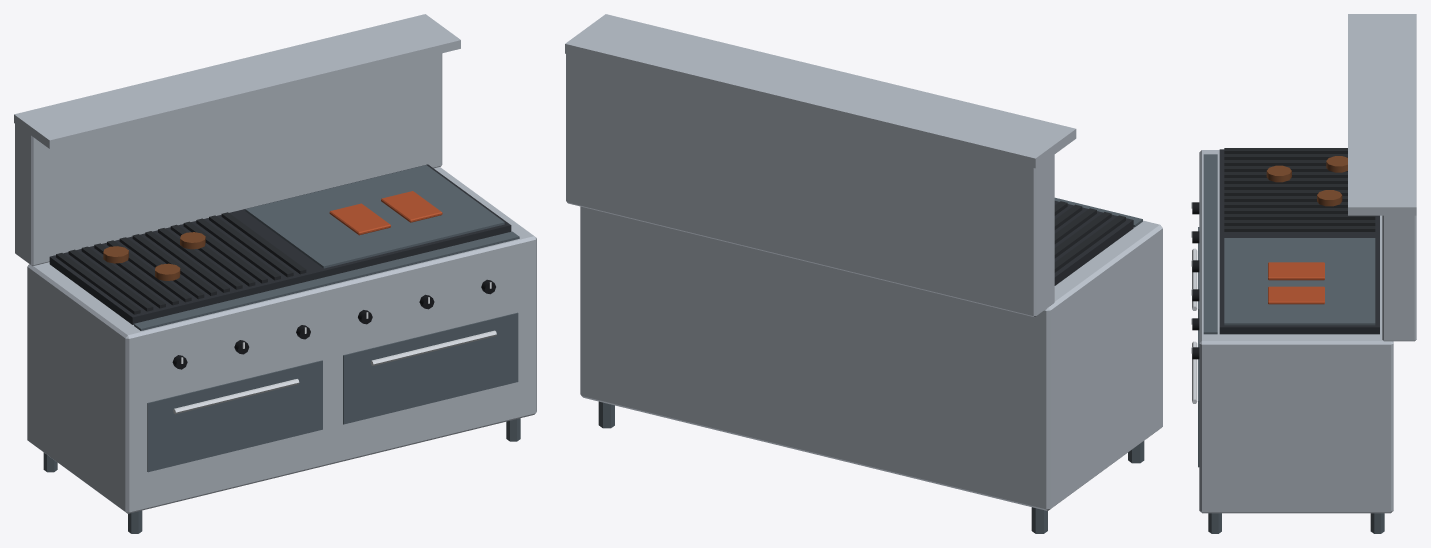
File: grill.glb
3 renders of one model, left to right at view 1: azimuth 30°, elevation 25°; view 2: azimuth 150°, elevation 25°; view 3: azimuth 270°, elevation 25°, orthographic. The views are drawn at different scales.
Visible parts, largest first — view 1: grill; view 2: grill; view 3: grill.
Boxes of the visible parts, box(x1,y1,x2,y2) form: grill: box(14, 14, 536, 533); grill: box(565, 14, 1162, 533); grill: box(1191, 14, 1416, 533).
Bounding box in the file's own units: 2 × 1.6 × 0.984.
